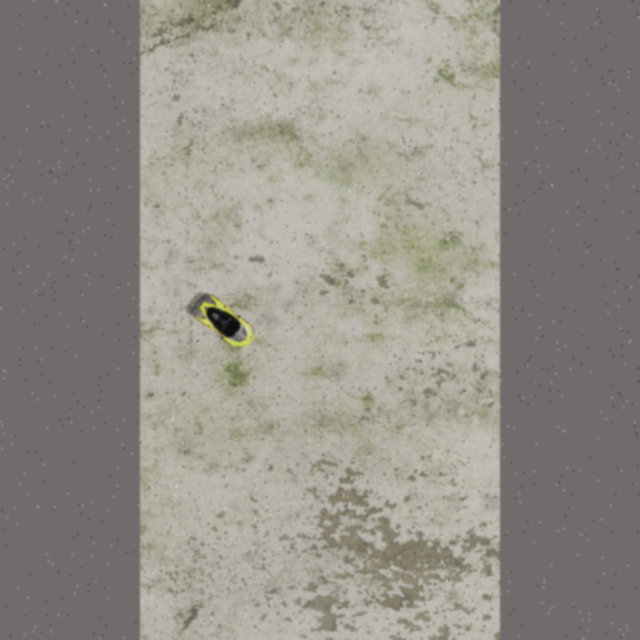car: (186, 289, 259, 355)
